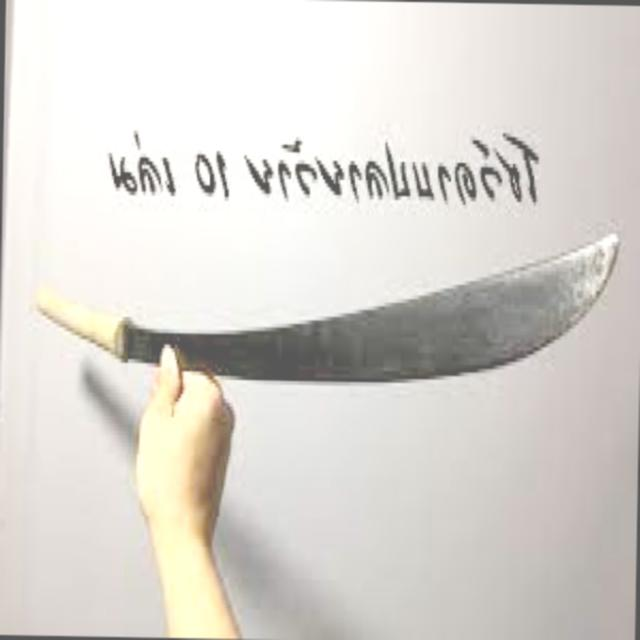long sword: (25, 219, 621, 395)
